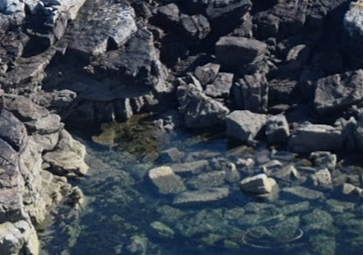tube: (270, 222, 303, 245), (240, 223, 268, 249)
